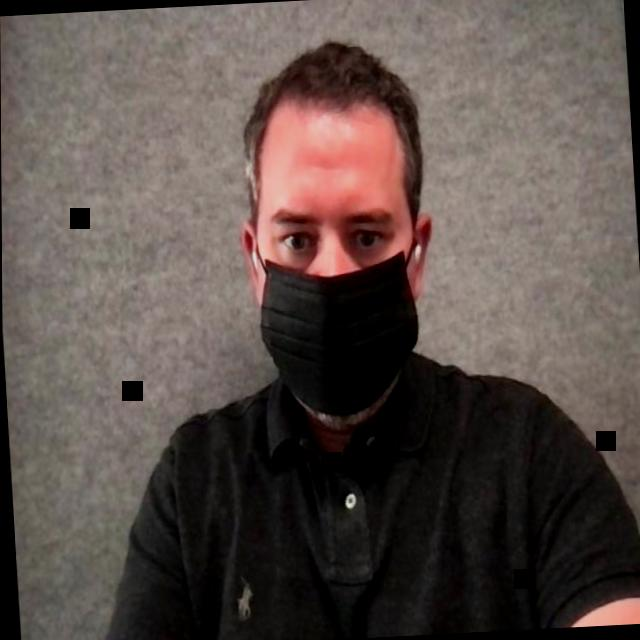Mask: (229, 32, 438, 426)
